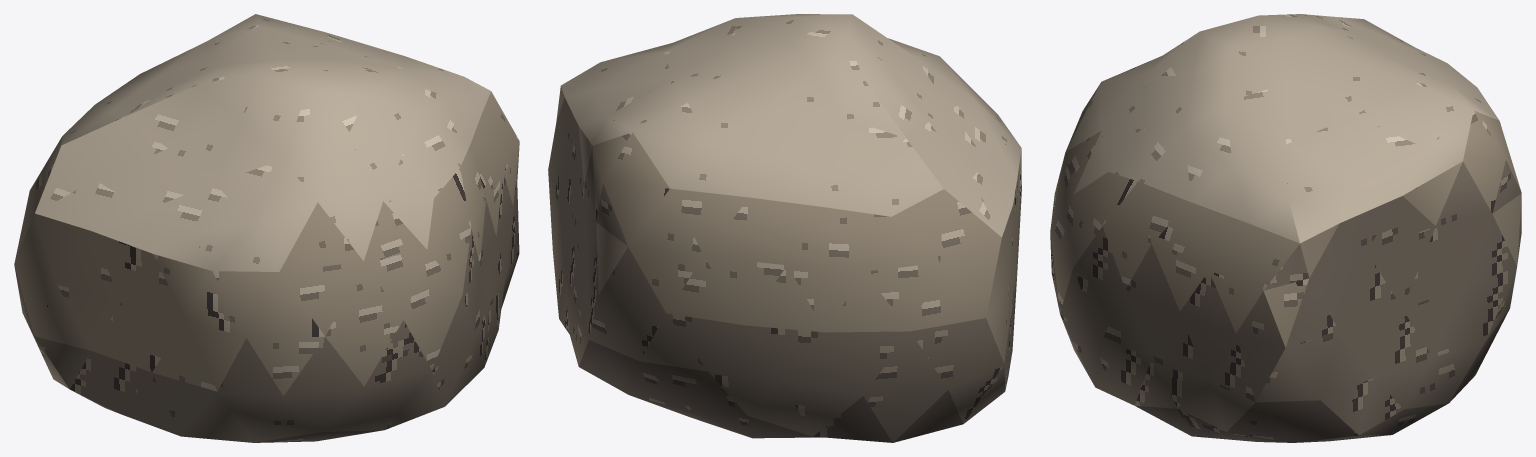
File: rock_large_a.glb
3 renders of one model, left to right at view 1: azimuth 30°, elevation 25°; view 2: azimuth 150°, elevation 25°; view 3: azimuth 270°, elevation 25°, orthographic. The views are drawn at different scales.
Visible parts, largest first — view 1: rock_large_a; view 2: rock_large_a; view 3: rock_large_a.
Boxes of the visible parts, box(x1,y1,x2,y2) form: rock_large_a: box(14, 14, 519, 442); rock_large_a: box(548, 14, 1021, 442); rock_large_a: box(1050, 14, 1521, 442).
Bounding box in the file's own units: 2.54 × 1.65 × 2.15.
Materials: 1 (1 with a texture image).
